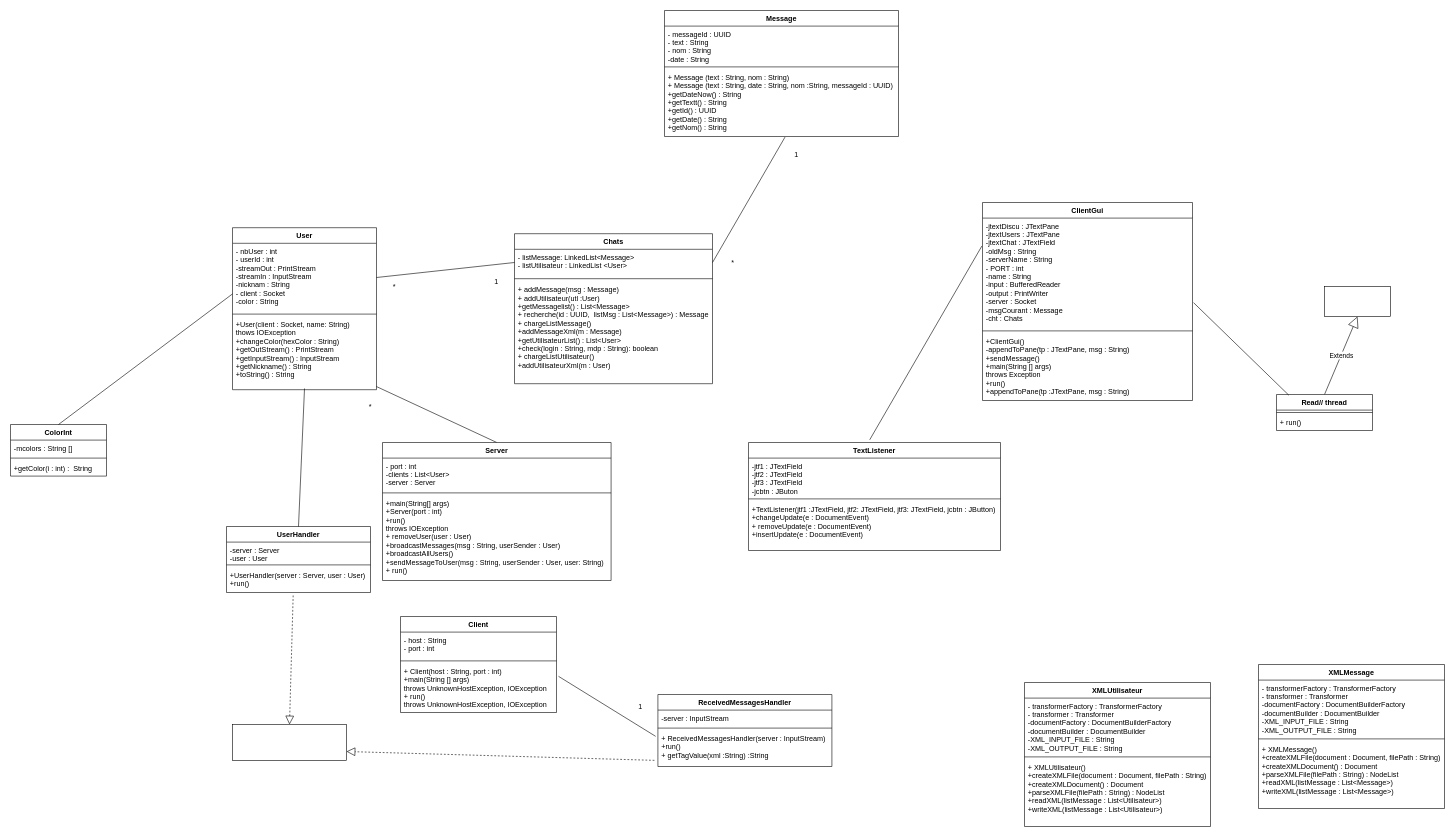
The diagram is 1455 pixels wide and 839 high, and some of its shapes have lost their labels. Each missing label, with the centre of its shape:
Thread: the point at 1357,301
«interface» Runnable: the point at 289,742
